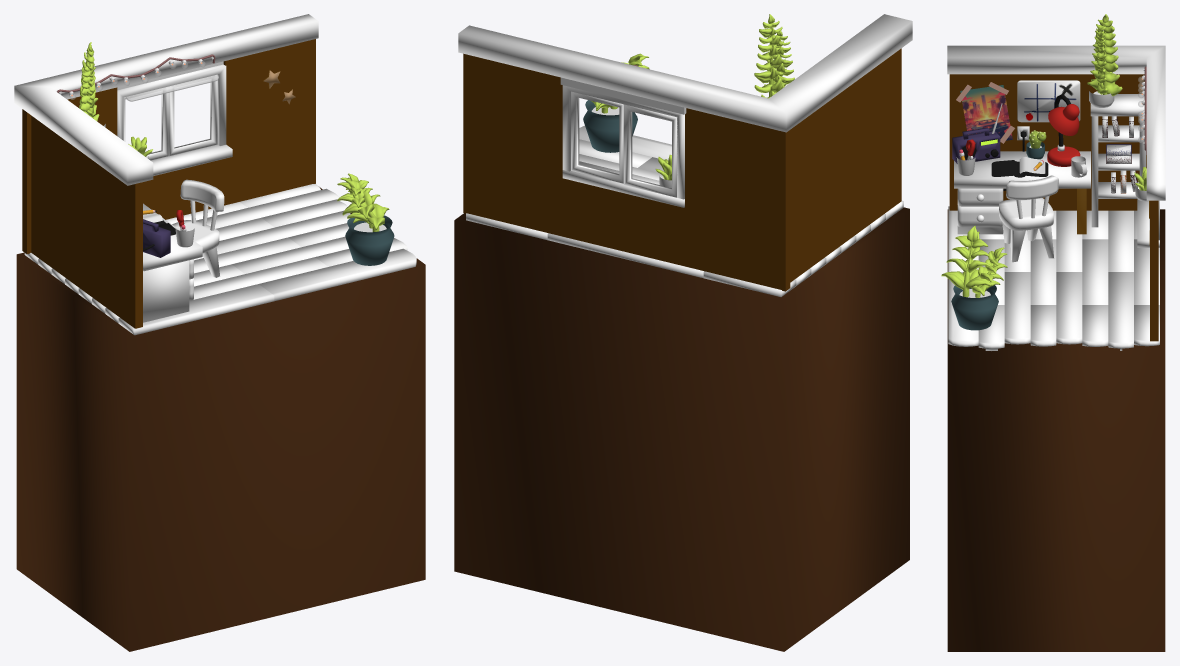
The model's file is iteration4.glb.
3 renders of one model, left to right at view 1: azimuth 30°, elevation 25°; view 2: azimuth 150°, elevation 25°; view 3: azimuth 270°, elevation 25°, orthographic. The views are drawn at different scales.
Parts seen in each view (by area): view 1: Plane, Plane.017, Cube.004, Cube.006, Plane.002, Cube.008, Plane.005, Cube.007, Cube.001, Circle, Cube.011, Cube.002 (+7 smaller); view 2: Plane, Cube.004, Cube.007, Cube.006, Plane.002, Cube.008, Plane.017, Cube.001, Cube.003, Cube.011, Cube.002, Vert.010 (+2 smaller); view 3: Plane, Plane.017, Plane.002, Cube.004, Plane.003, Plane.010, Plane.011, Plane.009, Circle, Vert.010, Plane.006, Cube.006 (+14 smaller).
Part boxes in pixels (left/top/right/bottom): Plane: left=16, top=187, right=425, bottom=651; Plane.017: left=24, top=184, right=416, bottom=335; Cube.004: left=31, top=115, right=142, bottom=328; Cube.006: left=223, top=39, right=315, bottom=204; Plane.002: left=14, top=14, right=318, bottom=185; Cube.008: left=143, top=159, right=226, bottom=219; Plane.005: left=143, top=260, right=189, bottom=322; Cube.007: left=22, top=87, right=117, bottom=253; Cube.001: left=117, top=64, right=226, bottom=145; Circle: left=345, top=215, right=394, bottom=265; Cube.011: left=168, top=75, right=217, bottom=156; Cube.002: left=151, top=144, right=232, bottom=175; Plane: left=454, top=207, right=909, bottom=651; Cube.004: left=790, top=48, right=901, bottom=282; Cube.007: left=684, top=108, right=790, bottom=291; Cube.006: left=463, top=53, right=564, bottom=236; Plane.002: left=458, top=14, right=912, bottom=132; Cube.008: left=563, top=179, right=686, bottom=266; Plane.017: left=466, top=125, right=903, bottom=296; Cube.001: left=562, top=85, right=684, bottom=199; Cube.003: left=623, top=104, right=677, bottom=197; Cube.011: left=571, top=91, right=623, bottom=183; Cube.002: left=562, top=161, right=684, bottom=207; Vert.010: left=754, top=14, right=786, bottom=98; Plane: left=947, top=209, right=1165, bottom=651; Plane.017: left=948, top=206, right=1159, bottom=350; Plane.002: left=947, top=45, right=1165, bottom=200; Cube.004: left=949, top=74, right=1146, bottom=210; Plane.003: left=954, top=151, right=1090, bottom=188; Plane.010: left=1017, top=80, right=1080, bottom=122; Plane.011: left=960, top=85, right=1012, bottom=140; Plane.009: left=1098, top=125, right=1139, bottom=198; Circle: left=951, top=285, right=998, bottom=330; Vert.010: left=1087, top=14, right=1122, bottom=96; Plane.006: left=999, top=198, right=1053, bottom=230; Cube.006: left=1150, top=200, right=1158, bottom=341.
Size of the model in its own units: 12.85 by 22.12 by 8.66.
32 materials, 2 textured.
